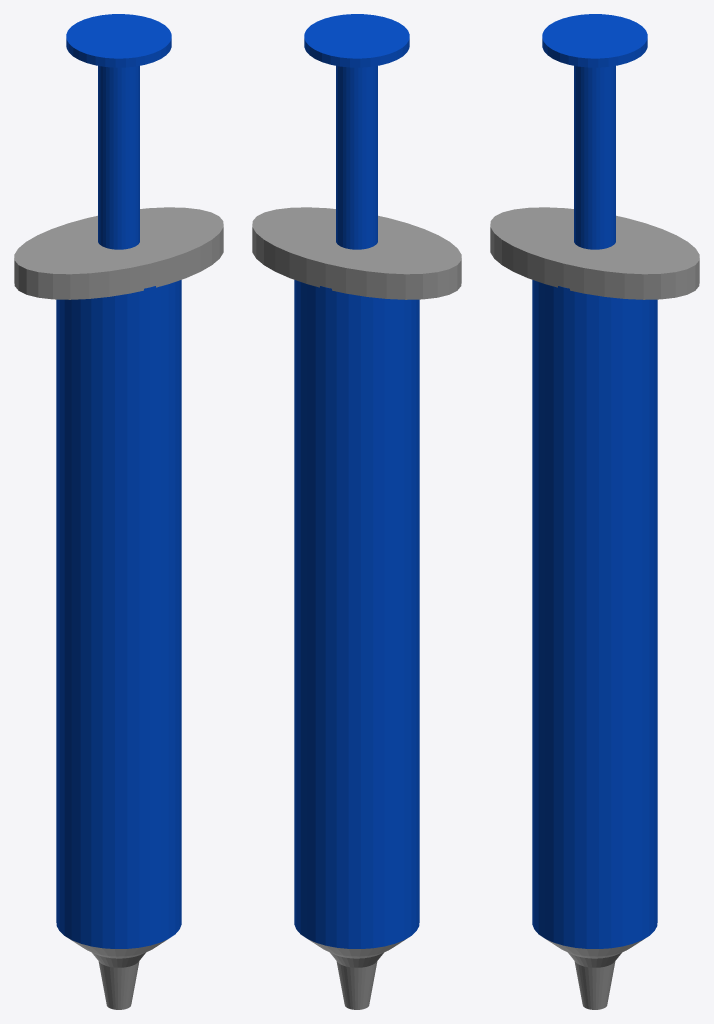
Rendered from ThermalPaste.fbx.
3 renders of one model, left to right at view 1: azimuth 30°, elevation 25°; view 2: azimuth 150°, elevation 25°; view 3: azimuth 330°, elevation 25°, orthographic.
Parts seen in each view (by area): view 1: ThermalPaste; view 2: ThermalPaste; view 3: ThermalPaste.
Boxes of the visible parts, x1,y1,x2,y2 form: ThermalPaste: (14, 14, 223, 1009); ThermalPaste: (252, 14, 461, 1009); ThermalPaste: (490, 14, 699, 1009).
Size of the model in its own units: 16.98 by 78.35 by 9.21.
